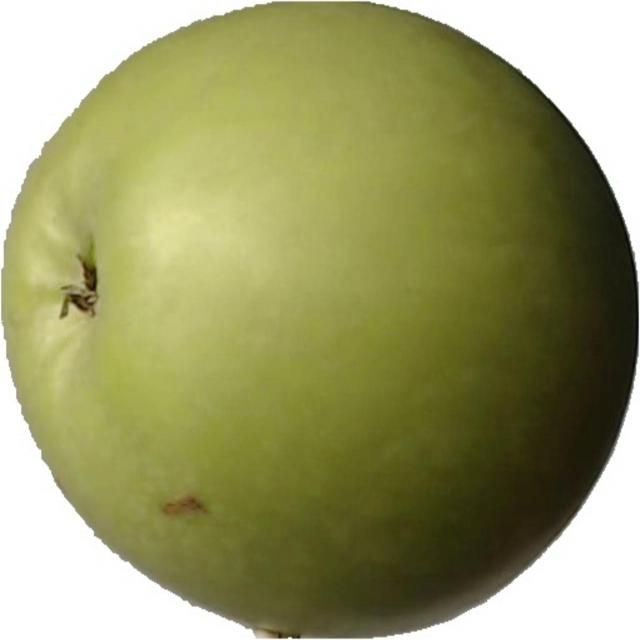apple: (5, 0, 638, 638)
